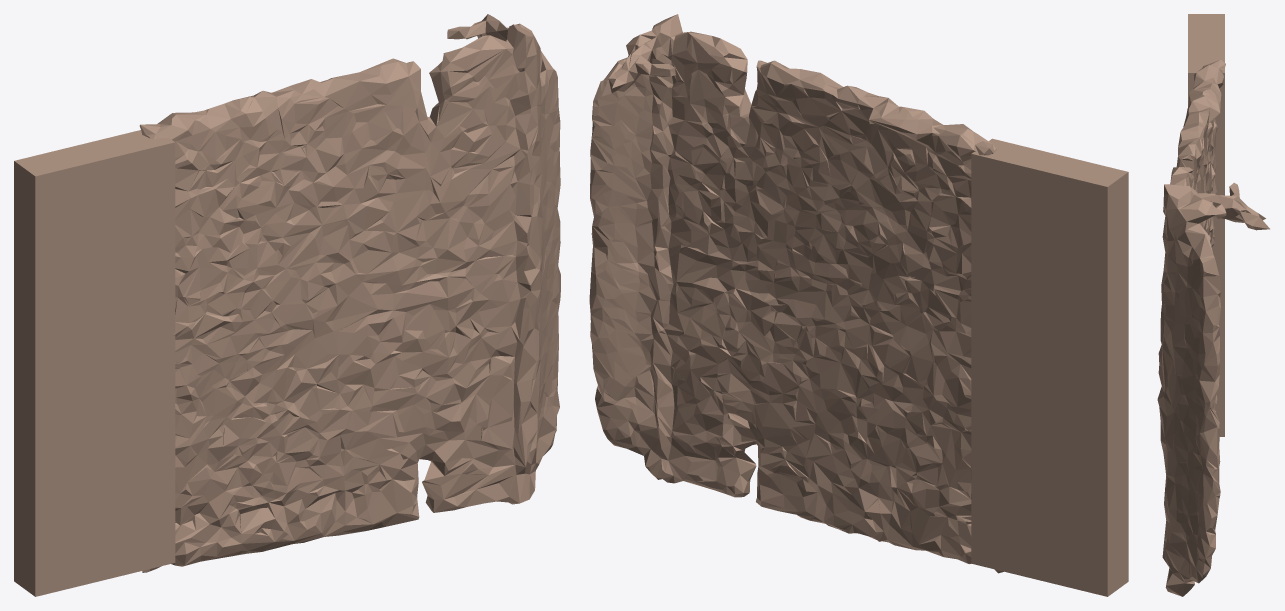
The model's file is improved.glb.
The picture shows the model from 3 angles, left to right: view 1: azimuth 30°, elevation 25°; view 2: azimuth 150°, elevation 25°; view 3: azimuth 270°, elevation 25°; orthographic projection. The views are drawn at different scales.
Parts seen in each view (by area): view 1: world; view 2: world; view 3: world.
Part boxes in pixels (left/top/right/bottom): world: left=14, top=14, right=560, bottom=596; world: left=589, top=14, right=1128, bottom=596; world: left=1157, top=14, right=1269, bottom=596.
Bounding box in the file's own units: 1.5 × 1.26 × 0.3157.
